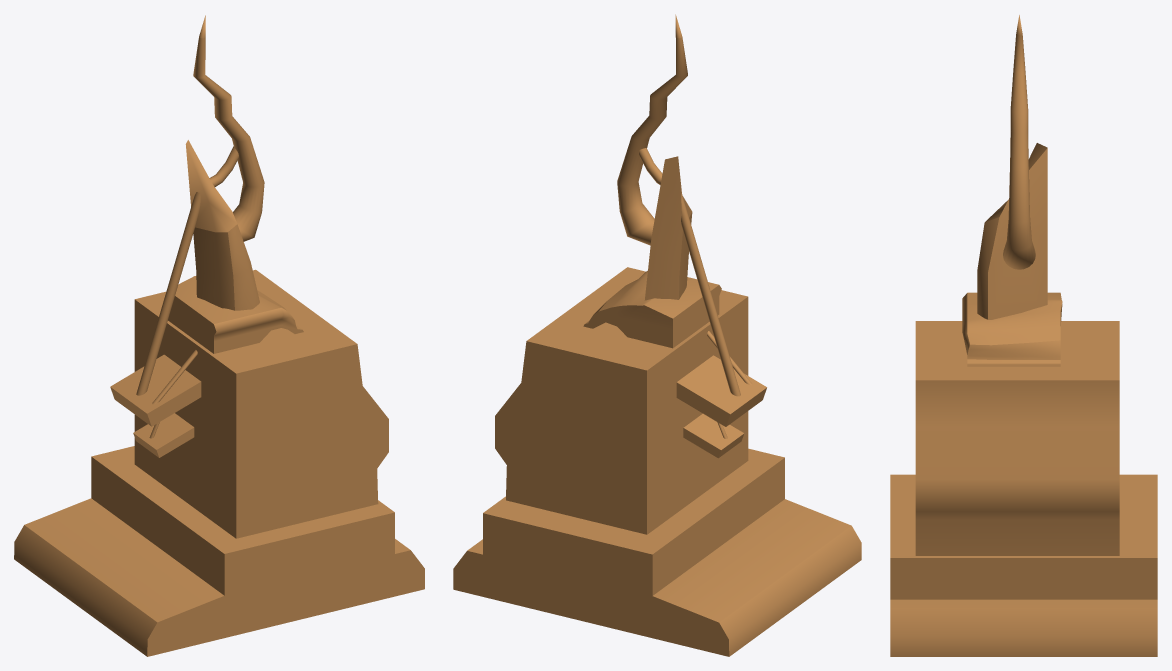
File: staute color.fbx
The picture shows the model from 3 angles, left to right: view 1: azimuth 30°, elevation 25°; view 2: azimuth 150°, elevation 25°; view 3: azimuth 270°, elevation 25°; orthographic projection.
Parts seen in each view (by area): view 1: pCube1, pasted__pCube4, pCube4, pCube2, pCube3, pCylinder1, pCube5, pCylinder3, pasted__pCube5; view 2: pCube1, pasted__pCube4, pCube4, pCube3, pCube2, pCylinder1, pCube5, pCylinder3, pasted__pCube5; view 3: pCube1, pCube4, pasted__pCube4, pCube2, pCube3, pCylinder1.
Part boxes in pixels (<box>): pCube1: <box>134,269,388,538</box>; pasted__pCube4: <box>14,498,424,656</box>; pCube4: <box>91,446,394,596</box>; pCube2: <box>185,140,259,310</box>; pCube3: <box>168,276,303,353</box>; pCylinder1: <box>193,15,264,241</box>; pCube5: <box>110,354,201,426</box>; pCylinder3: <box>136,191,200,395</box>; pasted__pCube5: <box>133,413,194,457</box>; pCube1: <box>495,267,748,534</box>; pasted__pCube4: <box>453,499,861,656</box>; pCube4: <box>483,448,784,595</box>; pCube3: <box>583,270,721,348</box>; pCube2: <box>644,156,692,300</box>; pCylinder1: <box>617,14,687,245</box>; pCube5: <box>676,355,766,426</box>; pCylinder3: <box>681,192,740,396</box>; pasted__pCube5: <box>683,413,744,458</box>; pCube1: <box>915,321,1119,555</box>; pCube4: <box>890,474,1157,599</box>; pasted__pCube4: <box>890,599,1157,656</box>; pCube2: <box>977,143,1047,319</box>; pCube3: <box>962,292,1062,366</box>; pCylinder1: <box>1003,15,1035,269</box>.
Size of the model in its own units: 7.28 by 14.19 by 6.06.
